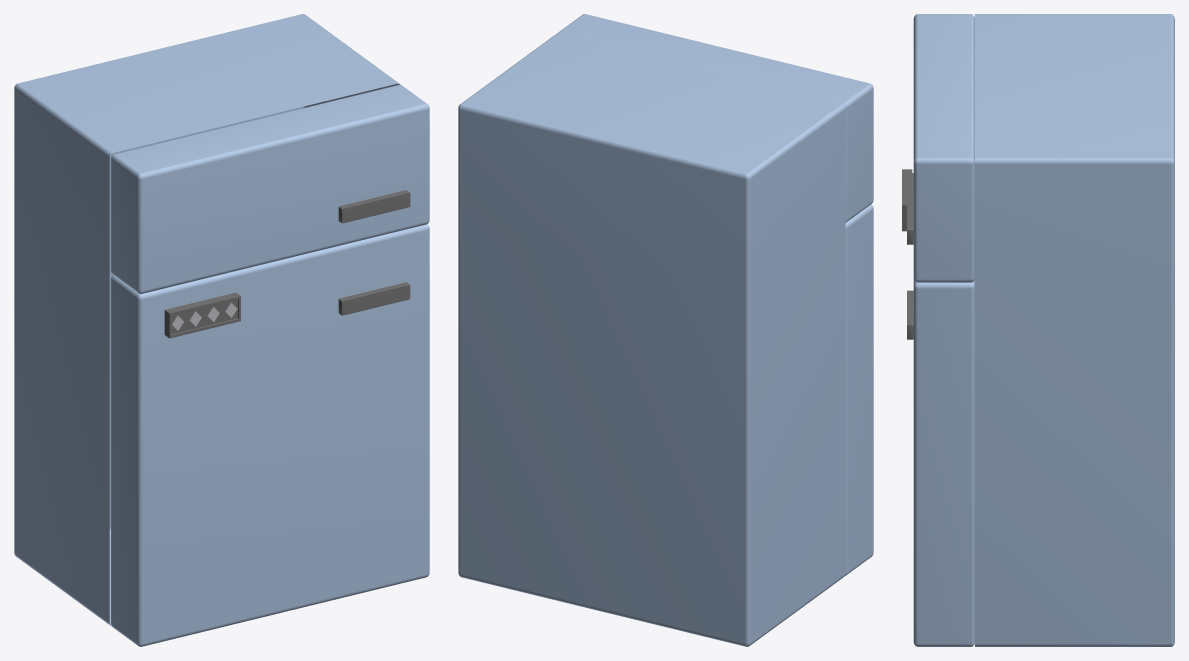
Rendered from RefrigeratorK.fbx.
The picture shows the model from 3 angles, left to right: view 1: azimuth 30°, elevation 25°; view 2: azimuth 150°, elevation 25°; view 3: azimuth 270°, elevation 25°; orthographic projection. The views are drawn at different scales.
Visible parts, largest first — view 1: Cube.002; view 2: Cube.002; view 3: Cube.002.
Boxes of the visible parts, x1,y1,x2,y2 form: Cube.002: [14, 14, 429, 646]; Cube.002: [458, 14, 873, 646]; Cube.002: [902, 14, 1174, 646].
Bounding box in the file's own units: 400 × 620 × 313.
